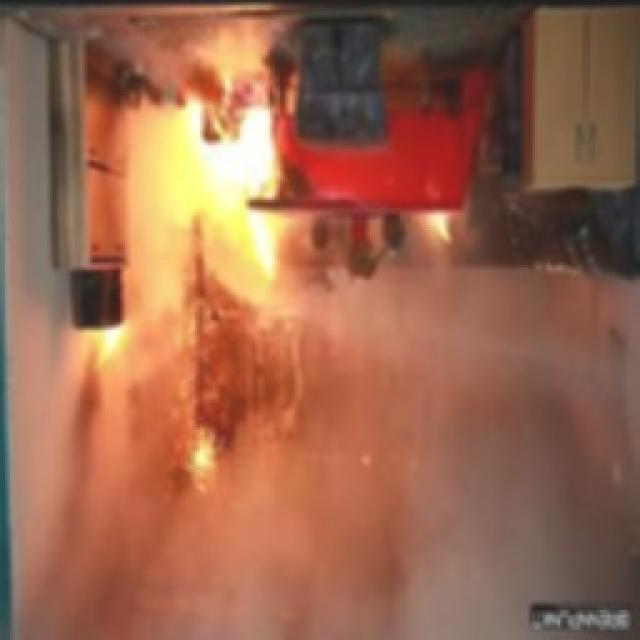fire: (180, 94, 290, 281)
smoke: (175, 296, 600, 606)
